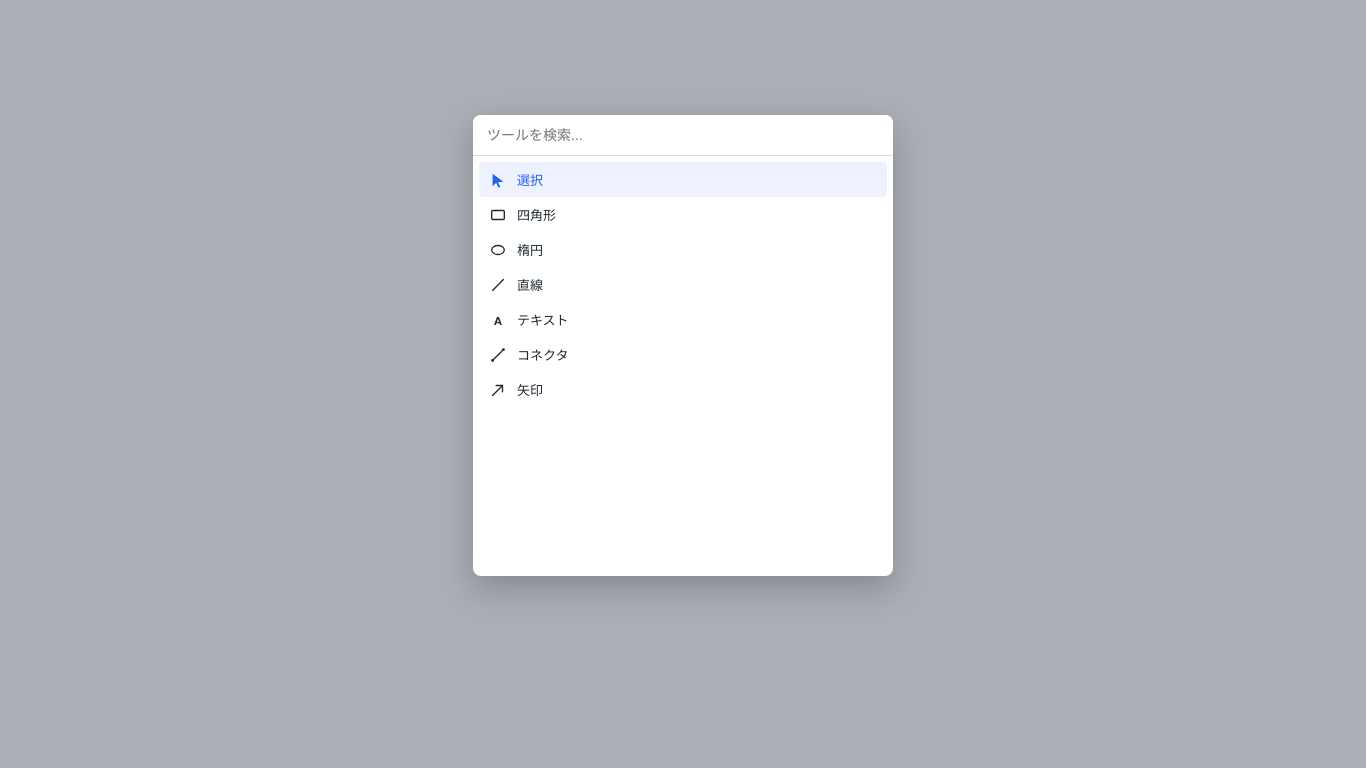
Test case: CommandPalette › filters the list by the search text
In the field with placeholder "ツールを検索...": (683, 136) [473,115,893,156], type "楕円"
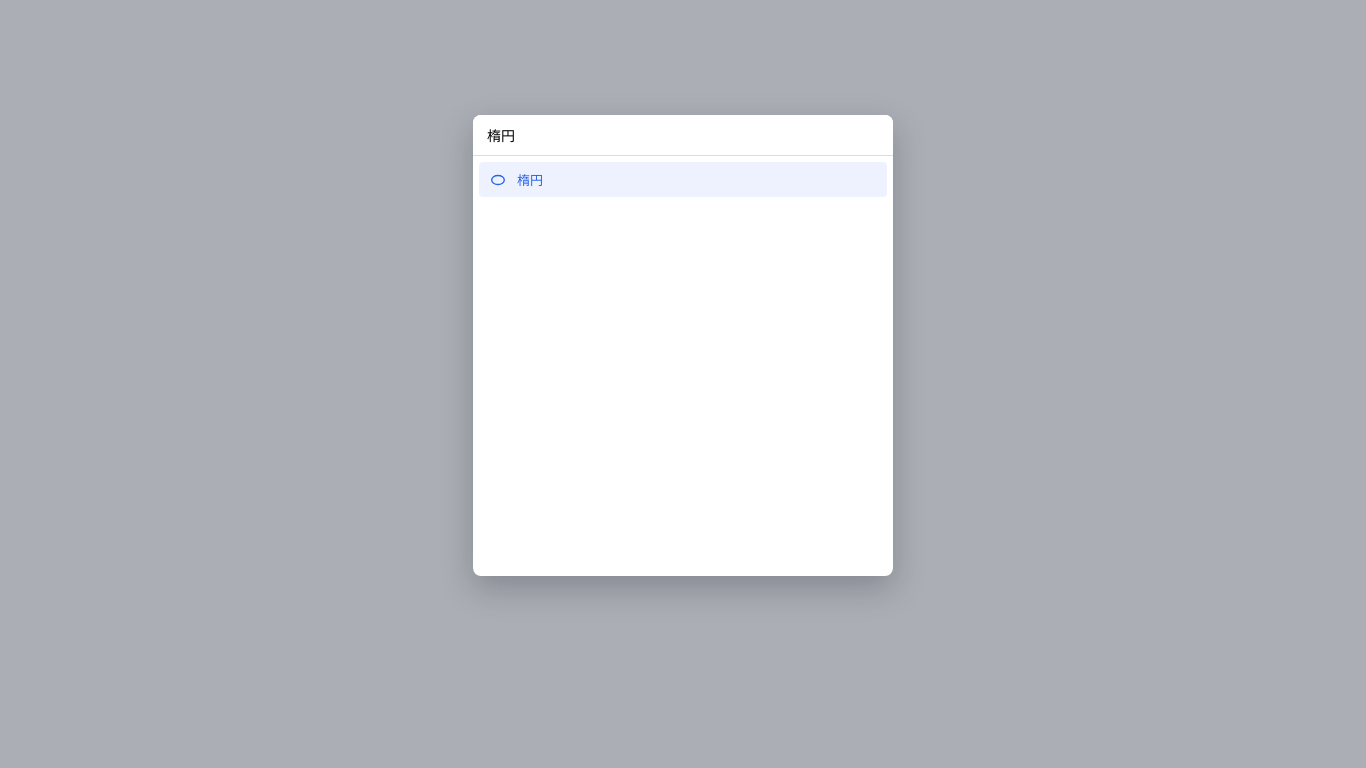
Expected: the text "楕円" is shown, [517,170,543,189]
Now the button "四角形" is gone
